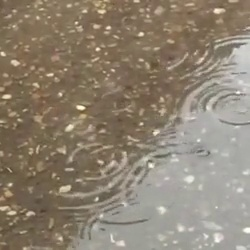drop: (186, 71, 250, 128), (85, 199, 147, 247), (200, 33, 250, 85), (66, 142, 126, 177), (100, 90, 133, 114), (194, 147, 211, 158)
